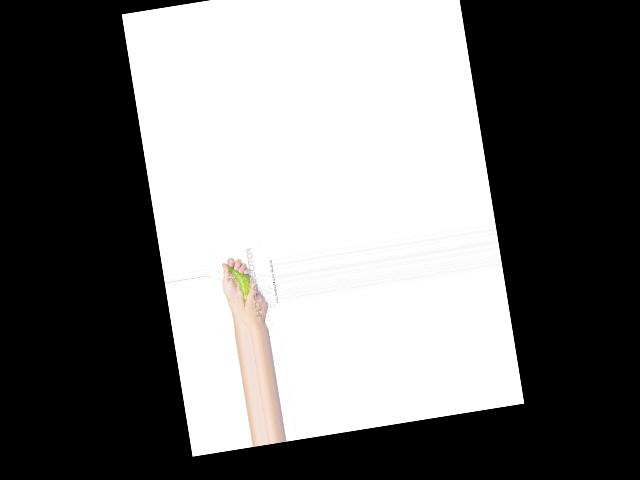cucumber: (228, 262, 254, 304)
